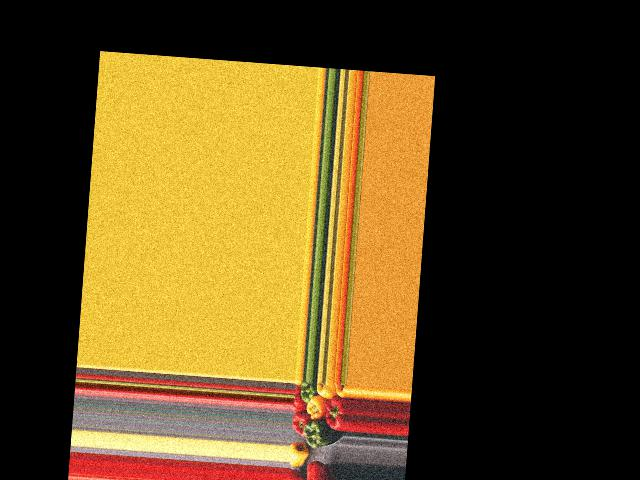bell_pepper: (288, 468, 306, 480)
